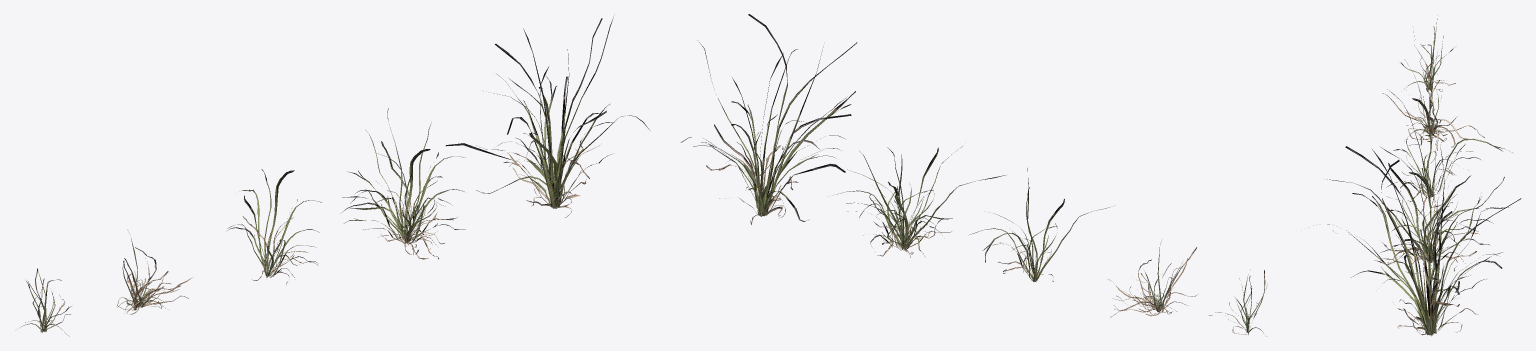
File: grass_medium_02.glb
The picture shows the model from 3 angles, left to right: view 1: azimuth 30°, elevation 25°; view 2: azimuth 150°, elevation 25°; view 3: azimuth 270°, elevation 25°; orthographic projection. The views are drawn at different scales.
Parts seen in each view (by area): view 1: grass_medium_02_e, grass_medium_02_d, grass_medium_02_c, grass_medium_02_b, grass_medium_02_a; view 2: grass_medium_02_e, grass_medium_02_d, grass_medium_02_c, grass_medium_02_b, grass_medium_02_a; view 3: grass_medium_02_e, grass_medium_02_d, grass_medium_02_c, grass_medium_02_b, grass_medium_02_a.
Part boxes in pixels (x1,y1,x2,y2): grass_medium_02_e: (446, 17, 649, 217); grass_medium_02_d: (340, 108, 465, 259); grass_medium_02_c: (227, 169, 321, 284); grass_medium_02_b: (117, 238, 192, 314); grass_medium_02_a: (20, 268, 71, 336); grass_medium_02_e: (681, 14, 857, 224); grass_medium_02_d: (837, 146, 1005, 257); grass_medium_02_c: (969, 168, 1109, 281); grass_medium_02_b: (1108, 242, 1197, 317); grass_medium_02_a: (1209, 270, 1266, 334); grass_medium_02_e: (1327, 144, 1521, 336); grass_medium_02_d: (1327, 144, 1508, 273); grass_medium_02_c: (1386, 89, 1512, 214); grass_medium_02_b: (1382, 56, 1484, 150); grass_medium_02_a: (1400, 19, 1455, 91).
Bounding box in the file's own units: 1.31 × 0.4053 × 0.4326.
1 material, 1 textured.
